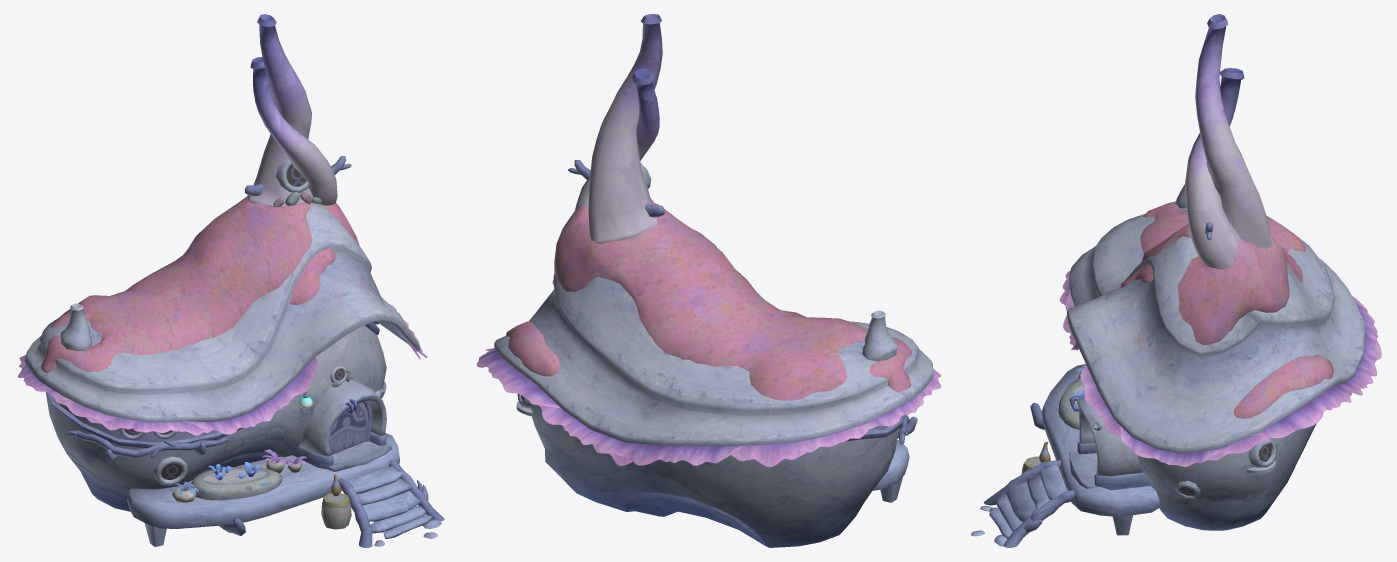
The model's file is Homeworld_Exterior_Fd_Build_RycFang_02_Lod0.fbx.
3 renders of one model, left to right at view 1: azimuth 30°, elevation 25°; view 2: azimuth 150°, elevation 25°; view 3: azimuth 270°, elevation 25°, orthographic. The views are drawn at different scales.
Parts seen in each view (by area): view 1: Area_Fd_Build_RYC_House_A_02_Lod0(Clone), Area_Fd_Build_RYC_House_02_tx_Lod0, Area_Fd_Build_RYC_House_B_02_Lod0(Clone), Area_Fd_Build_RYC_Comp_House_A_02_Lod0(Clone), Area_Fd_Prop_RYC_Rywujian_11_Vo(Clone), Area_Fd_Prop_RYC_Rywujian_10_Vo(Clone); view 2: Area_Fd_Build_RYC_House_A_02_Lod0(Clone), Area_Fd_Build_RYC_House_02_tx_Lod0, Area_Fd_Build_RYC_Comp_House_A_02_Lod0(Clone), Area_Fd_Build_RYC_House_B_02_Lod0(Clone); view 3: Area_Fd_Build_RYC_House_A_02_Lod0(Clone), Area_Fd_Build_RYC_House_02_tx_Lod0, Area_Fd_Build_RYC_House_B_02_Lod0(Clone), Area_Fd_Build_RYC_Comp_House_A_02_Lod0(Clone), Area_Fd_Prop_RYC_Rywujian_11_Vo(Clone).
Part boxes in pixels (x1,y1,x2,y2): Area_Fd_Build_RYC_House_A_02_Lod0(Clone): [25, 14, 420, 511]; Area_Fd_Build_RYC_House_02_tx_Lod0: [41, 196, 359, 372]; Area_Fd_Build_RYC_House_B_02_Lod0(Clone): [127, 433, 444, 547]; Area_Fd_Build_RYC_Comp_House_A_02_Lod0(Clone): [18, 191, 427, 435]; Area_Fd_Prop_RYC_Rywujian_11_Vo(Clone): [191, 462, 282, 500]; Area_Fd_Prop_RYC_Rywujian_10_Vo(Clone): [321, 474, 351, 529]; Area_Fd_Build_RYC_House_A_02_Lod0(Clone): [494, 14, 933, 547]; Area_Fd_Build_RYC_House_02_tx_Lod0: [506, 203, 912, 400]; Area_Fd_Build_RYC_Comp_House_A_02_Lod0(Clone): [476, 199, 941, 467]; Area_Fd_Build_RYC_House_B_02_Lod0(Clone): [873, 439, 909, 502]; Area_Fd_Build_RYC_House_A_02_Lod0(Clone): [1067, 14, 1365, 530]; Area_Fd_Build_RYC_House_02_tx_Lod0: [1121, 201, 1333, 418]; Area_Fd_Build_RYC_House_B_02_Lod0(Clone): [971, 364, 1160, 547]; Area_Fd_Build_RYC_Comp_House_A_02_Lod0(Clone): [1059, 270, 1381, 466]; Area_Fd_Prop_RYC_Rywujian_11_Vo(Clone): [1058, 378, 1084, 429].
Size of what is drawn, in the model's own units: 11.16 by 12.38 by 9.44.
